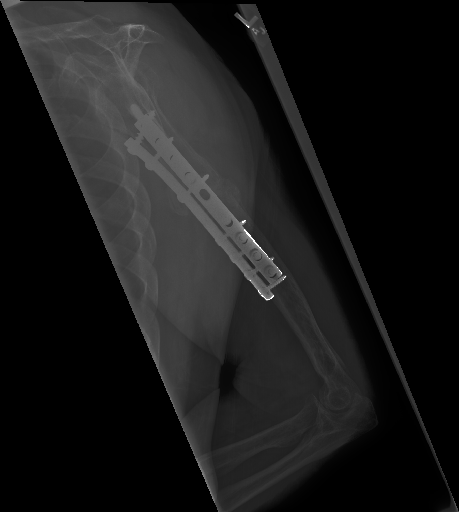implant: (126, 102, 287, 301)
